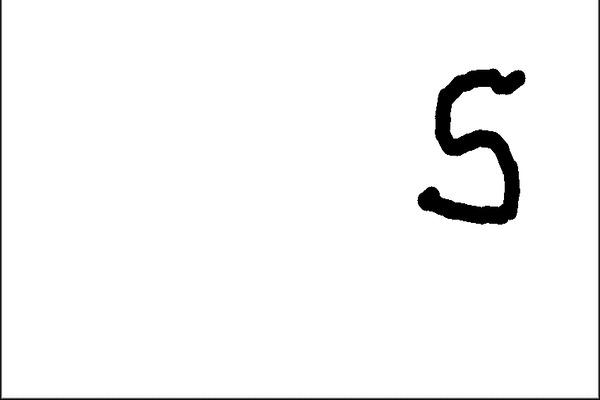S: (411, 63, 533, 233)
